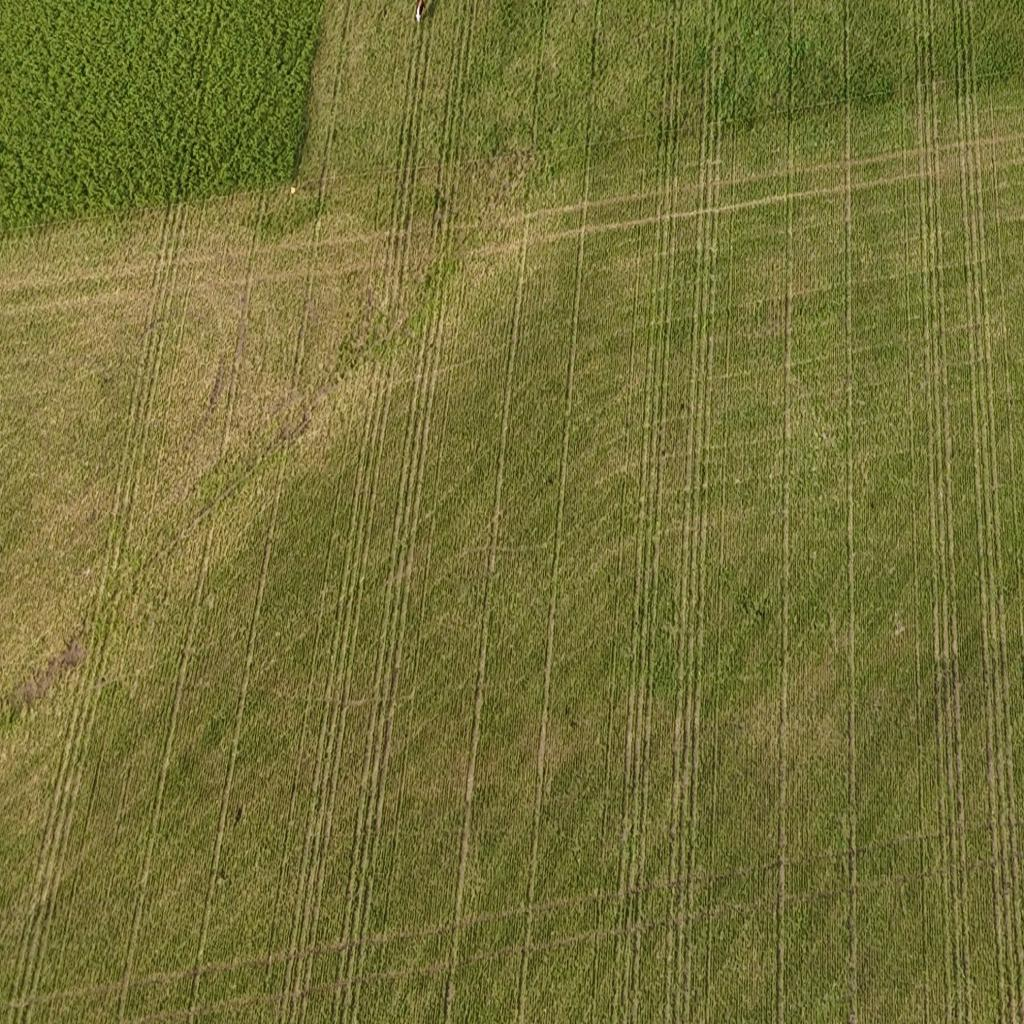cow: (414, 1, 432, 29)
